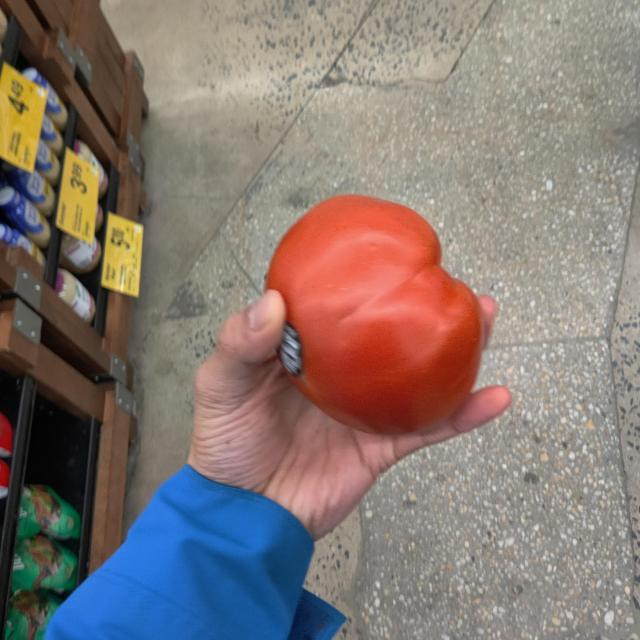Tomatoes: (274, 194, 482, 422)
